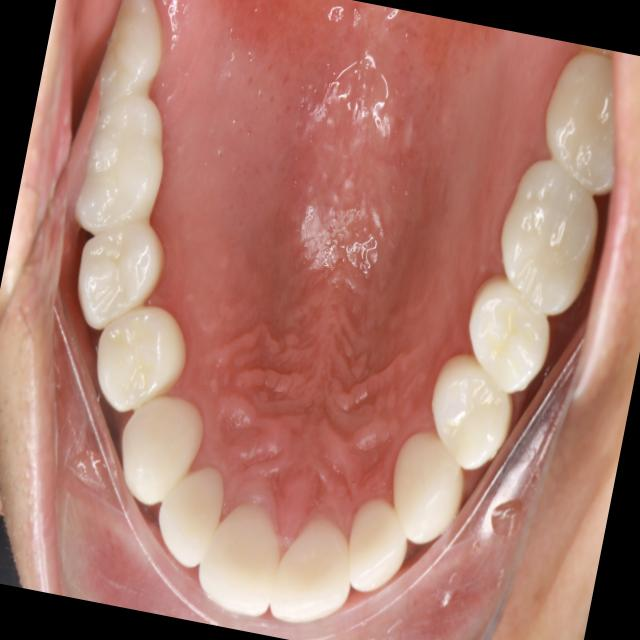tooth: (478, 134, 619, 336), (67, 72, 183, 250), (522, 39, 640, 209), (448, 260, 571, 417), (78, 285, 204, 435), (410, 334, 533, 487), (55, 211, 182, 354), (181, 490, 303, 633), (104, 383, 221, 531), (371, 415, 482, 565), (258, 496, 374, 639), (143, 445, 239, 584), (84, 0, 182, 124), (332, 477, 424, 606)
